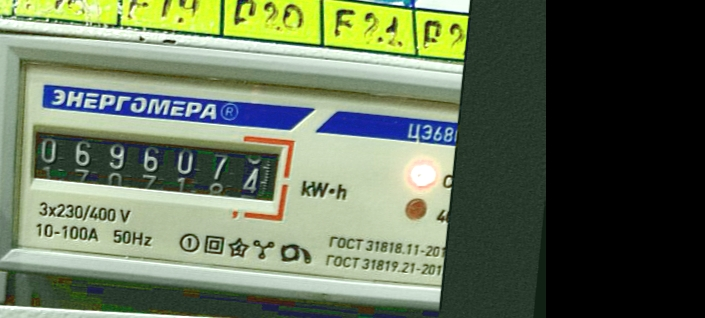0: (38, 130, 59, 161), (173, 143, 195, 172)
4: (240, 162, 260, 191)
6: (140, 140, 161, 169), (71, 135, 92, 163)
7: (208, 147, 230, 178)
9: (105, 138, 126, 168)
screen: (13, 105, 299, 220)
